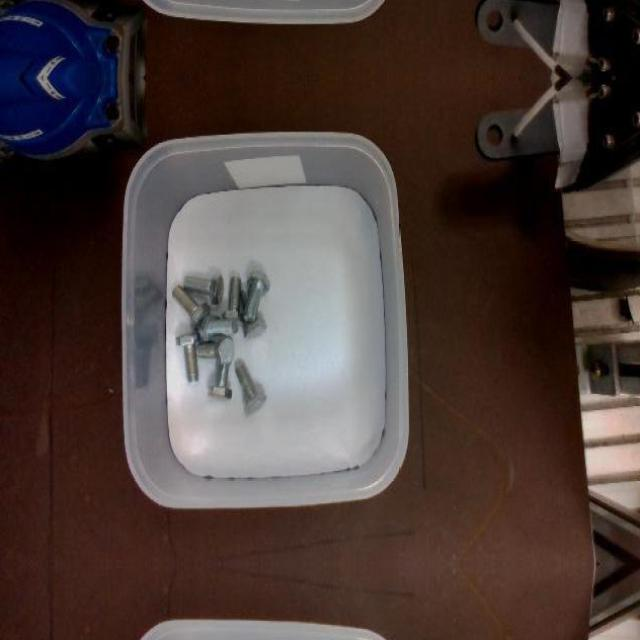screw: (235, 362, 266, 412), (244, 272, 270, 322), (175, 331, 201, 381), (184, 274, 225, 304), (196, 333, 236, 363), (198, 314, 238, 342)
